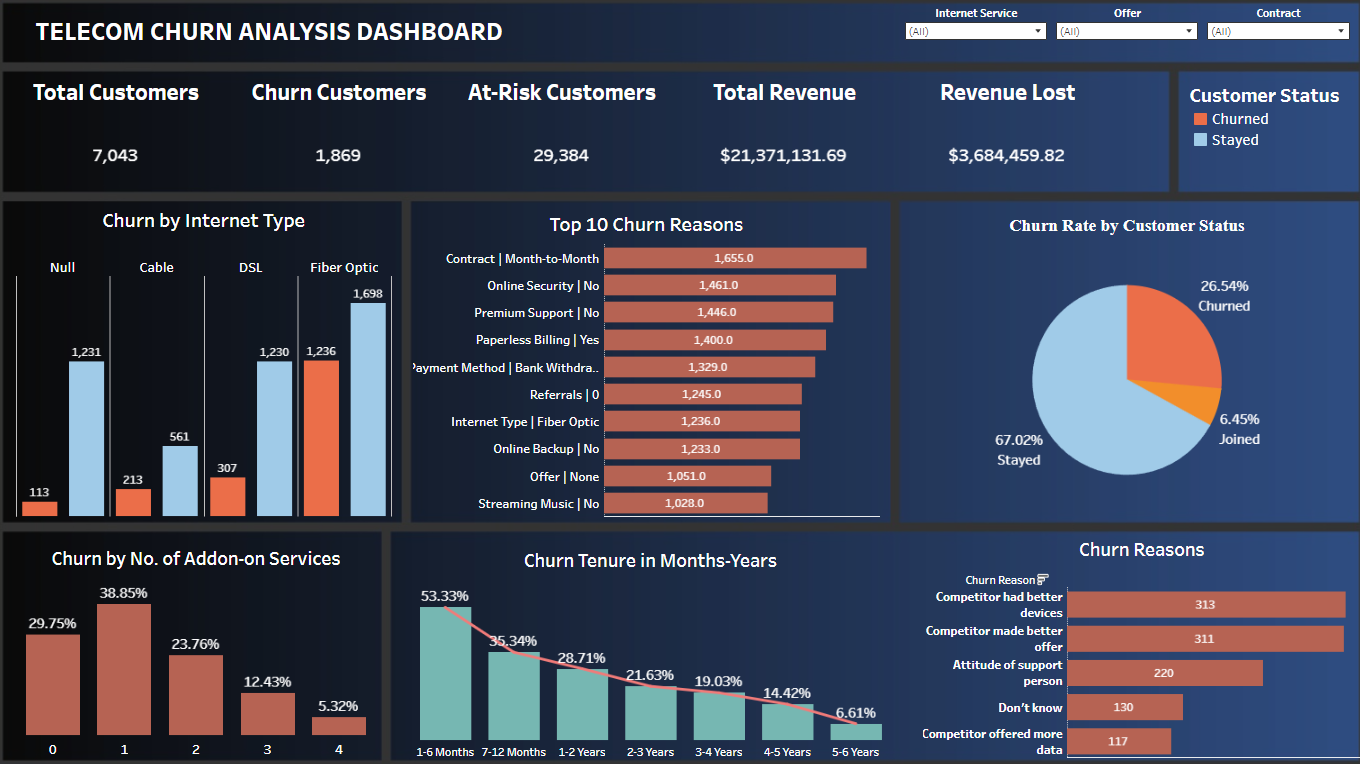

This screenshot's page, from the dashboard's own definition file:
{"tool":"tableau","page":{"name":"Dashboard 3","canvas":[1520,920],"ordinal":0},"visuals":[{"type":"image","param":"Image/HR background.pptx.png","box":[0,0,1520,920]},{"type":"worksheet","title":"Total customer","mark":"Automatic","box":[8,118,1239,138]},{"type":"legend","title":"internet type status","param":"[federated.105egqv0qatyig1b8dw9p1rndzld].[none:Customer Status:nk]","box":[1330,124,176,127]},{"type":"worksheet","title":"internet type status","mark":"Automatic","rows":["telecom_churn_cleaned.csv_65ED3D141A6E419296BD37B89034430E"],"cols":["Internet Type","Customer Status"],"box":[21,258,418,352]},{"type":"worksheet","title":"top 10 churn","mark":"Automatic","box":[462,263,519,347]},{"type":"worksheet","title":"customer status","mark":"Pie","box":[1021,272,483,340]},{"type":"worksheet","title":"churn reason","mark":"Automatic","rows":["Churn Reason"],"cols":["telecom_churn_cleaned.csv_65ED3D141A6E419296BD37B89034430E"],"box":[1029,625,486,253]},{"type":"worksheet","title":"addon","mark":"Automatic","rows":["churned_flag"],"cols":["Calculation_1378839832236035"],"box":[22,635,398,244]},{"type":"worksheet","title":"tenure cohort","mark":"Automatic","rows":["churned_flag","churned_flag"],"cols":["Calculation_1378839814610946"],"box":[460,638,532,260]}]}

Visuals, with their boxes on the page's 1520x920 design canvas (x1, y1, x2, y2). These are canvas units, not pixel positions in the 1360x764 screenshot, which may show the page scaled, cropped or inside an application window:
image: (0, 0, 1520, 920)
"Total customer" worksheet: (8, 118, 1247, 256)
"internet type status" legend: (1330, 124, 1506, 251)
"internet type status" worksheet: (21, 258, 439, 610)
"top 10 churn" worksheet: (462, 263, 981, 610)
"customer status" worksheet (Pie marks): (1021, 272, 1504, 612)
"churn reason" worksheet: (1029, 625, 1515, 878)
"addon" worksheet: (22, 635, 420, 879)
"tenure cohort" worksheet: (460, 638, 992, 898)
